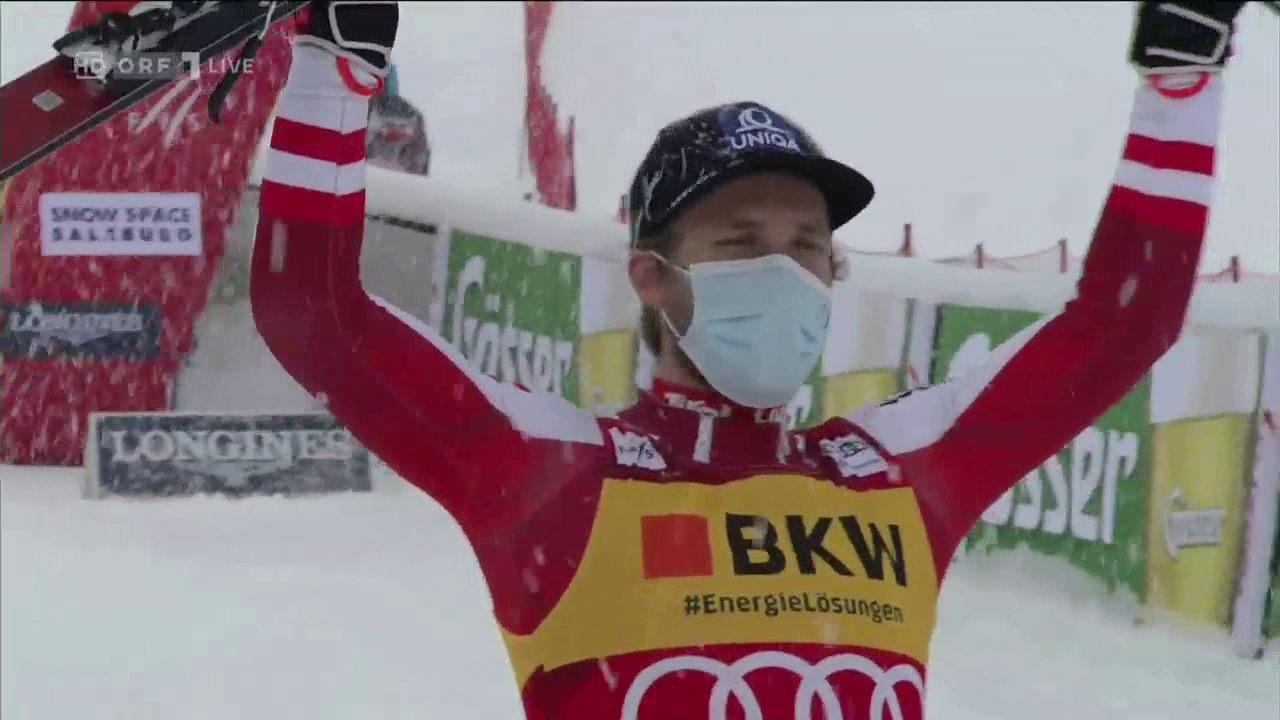audi: (574, 641, 958, 718)
longines: (90, 407, 379, 508)
